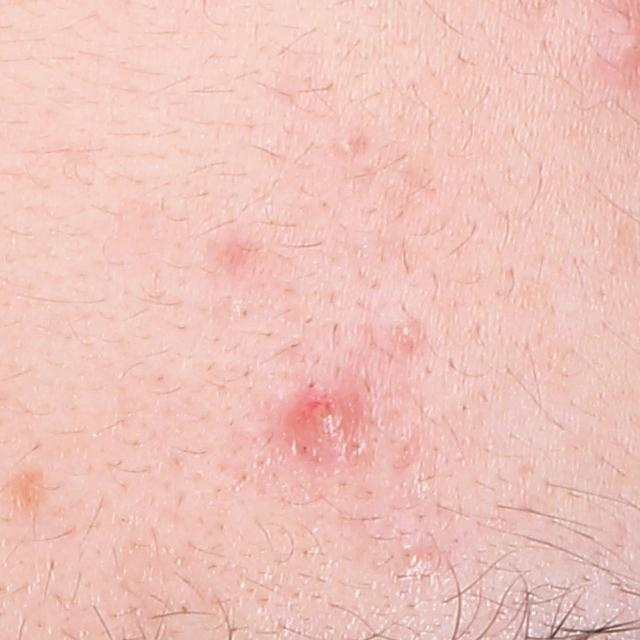comedo: (339, 137, 360, 154)
papule: (285, 373, 376, 460)
